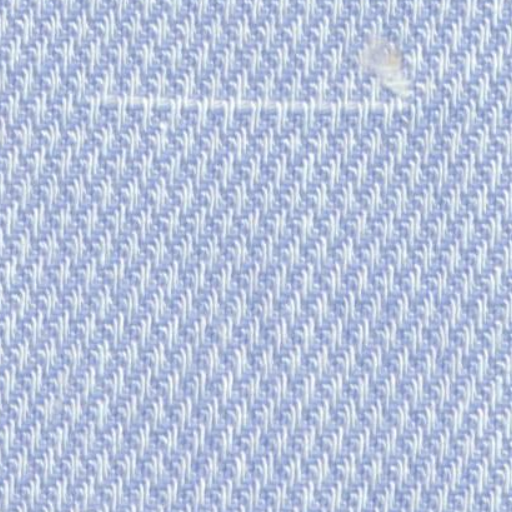DaiSha: (81, 78, 400, 140)
